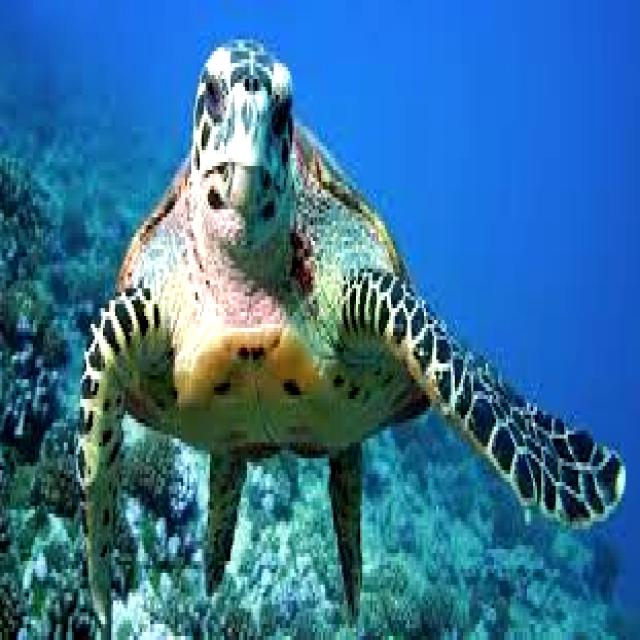Sea turtle: (81, 24, 631, 599)
